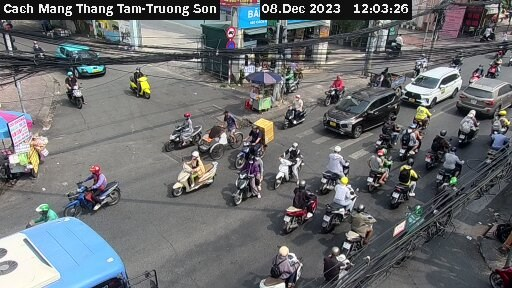bus: (1, 218, 163, 288)
car: (323, 87, 406, 142), (406, 66, 459, 106), (465, 70, 512, 113)
motorbike: (62, 169, 126, 221), (244, 242, 312, 288), (169, 151, 220, 198), (341, 204, 382, 259), (279, 180, 322, 231), (383, 155, 424, 206), (313, 243, 357, 288), (321, 179, 362, 226), (236, 123, 277, 168), (229, 160, 269, 206), (315, 145, 354, 190), (362, 148, 396, 198), (160, 114, 202, 152), (271, 147, 314, 184), (126, 69, 166, 105), (56, 76, 98, 109), (431, 176, 467, 213), (423, 127, 455, 168), (278, 98, 313, 133), (451, 111, 483, 148), (436, 148, 468, 184), (478, 129, 509, 166), (371, 116, 403, 150), (396, 121, 427, 156), (406, 104, 443, 132), (485, 105, 512, 139), (320, 77, 348, 102), (484, 54, 510, 80), (408, 54, 437, 75), (450, 53, 476, 71)
